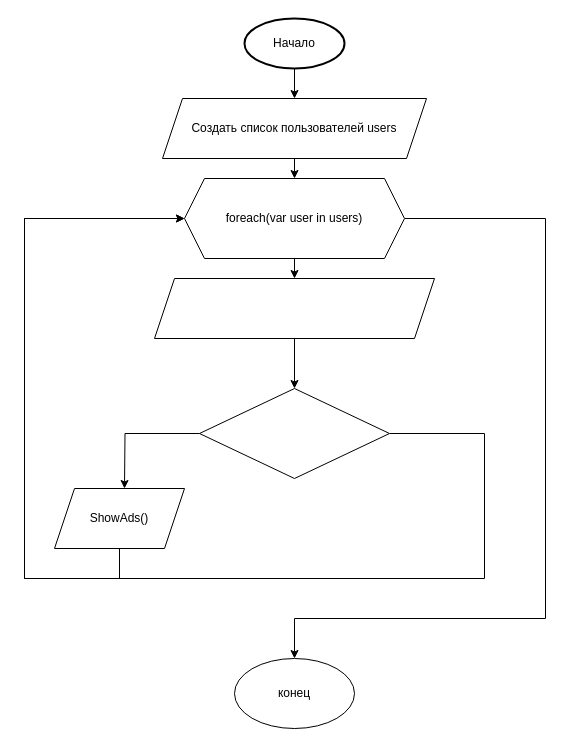
Some shapes in this 571 by 746 pixel diagram are drawn without their labels. Here are the shapes that lost their labels. From the top down, the centre of each, then its label:
At pixel 294 308: "Вывести приветствие по имени".
At pixel 294 433: "user.IsPremium == false".
